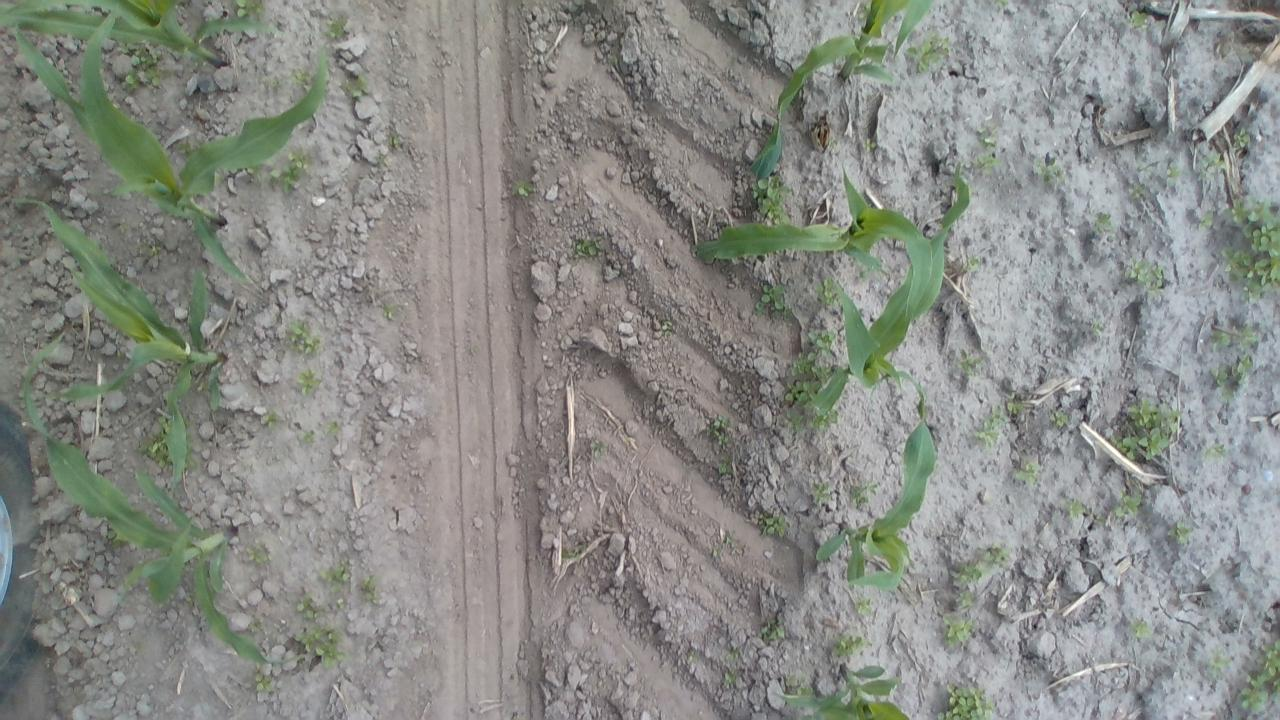Maize: (25, 326, 290, 673), (26, 20, 332, 290), (13, 186, 230, 498), (812, 169, 970, 420), (692, 172, 936, 332), (751, 1, 939, 180), (811, 374, 942, 590), (0, 0, 284, 76), (772, 663, 916, 718)
Weeds: (1222, 198, 1278, 301), (1120, 397, 1182, 461), (1239, 640, 1280, 712), (120, 42, 172, 88), (950, 546, 1010, 584), (294, 625, 344, 668), (940, 683, 996, 719), (1214, 352, 1254, 400), (755, 175, 789, 221), (910, 34, 950, 73), (1125, 255, 1167, 290), (278, 151, 312, 192), (754, 284, 790, 320), (288, 317, 322, 354), (976, 126, 1002, 170), (1214, 322, 1258, 348), (978, 408, 1008, 444), (831, 632, 868, 660), (707, 529, 736, 564), (942, 616, 975, 646), (141, 432, 170, 466), (848, 479, 880, 509), (319, 562, 352, 589), (705, 414, 732, 447), (757, 511, 791, 536), (784, 378, 814, 406), (1034, 156, 1064, 184), (1011, 459, 1041, 487), (954, 348, 984, 376), (556, 540, 587, 567), (1114, 488, 1140, 517), (814, 278, 839, 308), (791, 352, 821, 376), (325, 14, 352, 40), (1200, 148, 1225, 175), (572, 238, 600, 262), (807, 330, 834, 354), (974, 150, 1000, 174), (760, 618, 786, 642), (810, 480, 834, 506), (233, 0, 264, 20), (298, 368, 320, 395), (345, 74, 369, 98), (1062, 499, 1088, 520), (1199, 441, 1226, 461), (264, 72, 284, 99), (1208, 650, 1232, 672), (1170, 520, 1192, 544), (296, 596, 320, 618), (1004, 395, 1029, 416), (138, 238, 165, 257), (247, 544, 270, 566), (253, 670, 274, 694), (1092, 210, 1114, 232), (361, 576, 378, 604), (784, 412, 806, 433), (514, 179, 536, 200), (1232, 127, 1252, 149), (789, 676, 812, 695), (1164, 162, 1185, 182), (292, 67, 311, 89), (1130, 618, 1150, 638), (105, 529, 125, 549), (853, 594, 873, 614), (175, 138, 196, 156), (1048, 409, 1070, 426), (1130, 10, 1148, 30), (960, 254, 980, 272), (588, 438, 604, 460), (112, 219, 130, 238), (375, 148, 390, 170), (955, 590, 974, 607), (381, 302, 397, 322), (818, 410, 836, 427), (154, 415, 170, 434), (718, 457, 734, 476), (1198, 210, 1214, 228), (261, 410, 279, 426), (722, 670, 738, 687), (726, 646, 744, 661), (861, 137, 877, 153), (606, 52, 620, 70), (659, 321, 674, 337), (325, 420, 340, 436), (1130, 184, 1147, 198), (300, 429, 314, 445), (250, 616, 263, 632), (1090, 318, 1103, 334), (389, 132, 401, 149), (132, 639, 142, 654), (685, 650, 697, 662), (335, 597, 347, 609), (828, 136, 838, 149), (994, 0, 1008, 8)
